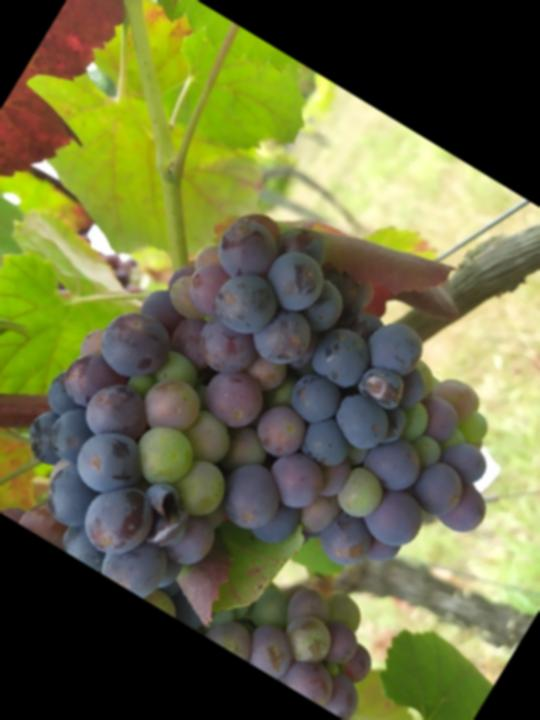grape: (0, 148, 540, 720)
